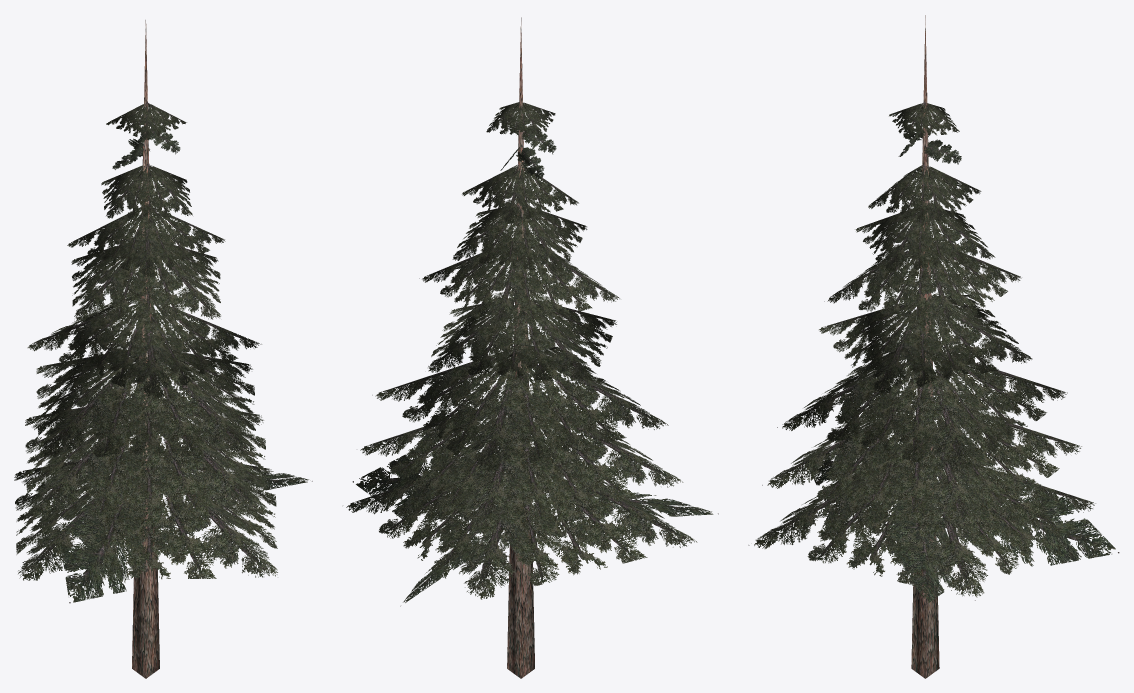
Rendered from conf_mtns_pine_full_l2.fbx.
The picture shows the model from 3 angles, left to right: view 1: azimuth 30°, elevation 25°; view 2: azimuth 150°, elevation 25°; view 3: azimuth 270°, elevation 25°; orthographic projection.
Visible parts, largest first — view 1: mesh_node; view 2: mesh_node; view 3: mesh_node.
Boxes of the visible parts, x1=… form: mesh_node: x1=14, y1=20, x2=312, y2=678; mesh_node: x1=346, y1=17, x2=718, y2=678; mesh_node: x1=748, y1=15, x2=1119, y2=678.
Bounding box in the file's own units: 10.03 × 19.57 × 10.02.
